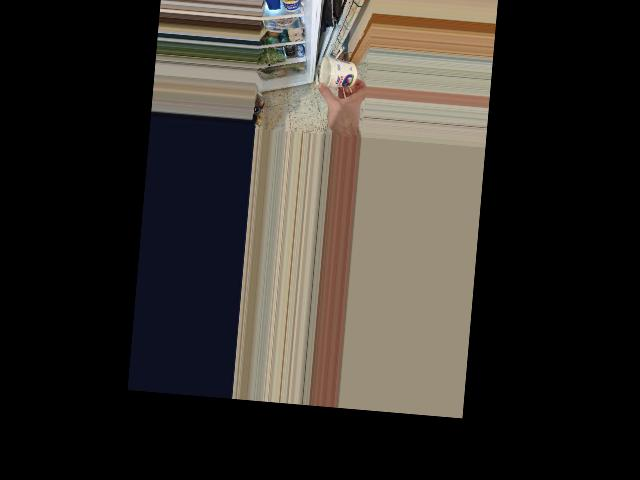cotage: (320, 59, 356, 92)
